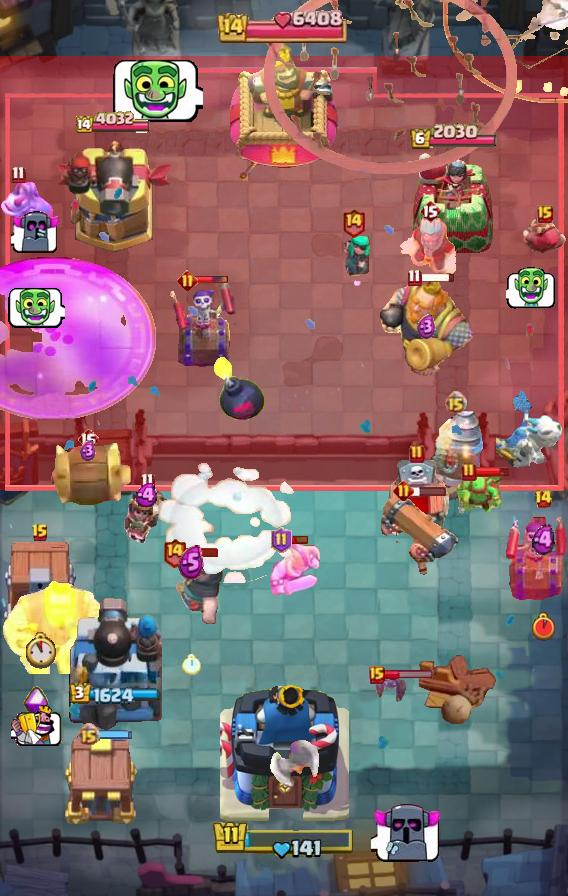baby-dragon: (212, 354, 266, 422)
barbarian-barrel: (372, 674, 410, 702)
battle-healer: (379, 493, 461, 577)
bomb: (62, 733, 142, 827), (1, 542, 79, 628)
bomber-evolution: (120, 489, 175, 545)
bowler: (520, 213, 568, 255)
clock: (212, 819, 356, 861), (217, 9, 351, 43)
electro-spirit: (178, 545, 204, 579), (533, 524, 556, 556), (135, 483, 160, 507), (416, 314, 436, 340), (80, 440, 96, 462)
elixir: (23, 631, 58, 668), (533, 612, 556, 641), (182, 653, 201, 674)
elixir-golem-mid: (382, 458, 452, 544)
elixir-golem-small: (0, 179, 54, 251)
emote: (383, 668, 434, 679), (474, 466, 510, 478), (411, 485, 447, 497), (420, 273, 457, 284), (98, 728, 133, 739), (185, 546, 219, 557), (195, 275, 229, 285), (289, 535, 309, 546)
giant-skeleton: (372, 276, 480, 380), (2, 580, 112, 674)
giant-snowball: (455, 472, 503, 518)
goblin-giant: (268, 540, 322, 596)
guard: (444, 0, 568, 104)
king-tower: (219, 678, 349, 826), (230, 43, 338, 181)
knight-evolution: (0, 256, 156, 420)
magic-archer: (425, 410, 485, 502)
mini-pekka: (496, 388, 566, 470)
mortar: (397, 212, 463, 282)
queen-tower: (410, 152, 496, 256)
royal-giant: (266, 740, 320, 800)
royal-hog: (156, 549, 226, 627)
selected: (410, 123, 499, 151), (68, 683, 159, 706), (75, 112, 152, 137)
skeleton: (110, 56, 202, 126), (371, 800, 443, 864), (7, 286, 65, 330), (11, 210, 61, 254), (506, 267, 556, 309), (10, 706, 61, 747)
skeleton-barrel: (263, 0, 517, 175)
skeleton-king-bar: (170, 283, 238, 369), (506, 514, 568, 600)
skeleton-king-skill: (23, 686, 49, 722)
text: (341, 207, 366, 238), (162, 536, 186, 567), (272, 527, 293, 553), (445, 391, 468, 414), (77, 722, 100, 745), (419, 199, 441, 223), (77, 427, 99, 451), (178, 269, 199, 291), (394, 479, 415, 501), (535, 489, 554, 509), (31, 523, 49, 543), (409, 444, 425, 464), (461, 462, 477, 482), (537, 205, 553, 223), (369, 666, 385, 684), (140, 472, 155, 491), (406, 269, 421, 287), (11, 164, 25, 183)
the-log: (43, 441, 133, 509)
tower-bar: (53, 138, 175, 256), (66, 595, 162, 731)
wall-breaker: (153, 461, 305, 583)
witch: (334, 236, 372, 288)
